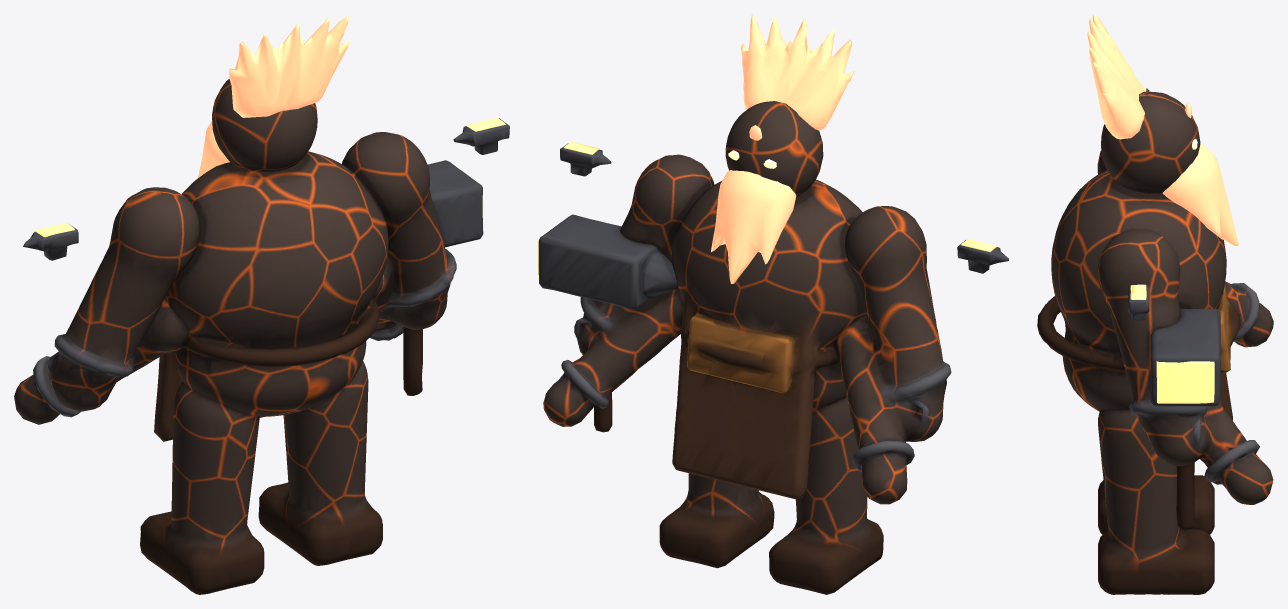
The model's file is Vulkhar.glb.
The picture shows the model from 3 angles, left to right: view 1: azimuth 30°, elevation 25°; view 2: azimuth 150°, elevation 25°; view 3: azimuth 270°, elevation 25°; orthographic projection. The views are drawn at different scales.
Visible parts, largest first — view 1: Body, ArmL, LegL, LegR, ArmR, Head_Glow3, Head, WeaponR, Orbit; view 2: Body, ArmL, ArmR, Head_Glow3, LegL, WeaponR, LegR, Head, Orbit; view 3: Body, ArmR, LegR, Head_Glow3, Head, WeaponR, WeaponR_Glow, ArmL, LegL, Orbit.
Part boxes in pixels (x1,y1,x2,y2): Body: (154,151,388,441); ArmL: (14,187,200,424); LegL: (140,382,264,594); LegR: (258,361,382,565); ArmR: (342,132,456,340); Head_Glow3: (198,14,350,177); Head: (212,79,317,171); WeaponR: (403,160,483,395); Orbit: (23,118,509,260); Body: (672,179,866,498); ArmL: (833,206,951,504); ArmR: (543,154,714,426); Head_Glow3: (711,14,854,283); LegL: (769,397,883,594); WeaponR: (538,214,677,432); LegR: (659,473,774,568); Head: (725,101,823,197); Orbit: (560,143,1008,273); Body: (1037,170,1240,484); ArmR: (1097,228,1273,504); LegR: (1098,409,1214,594); Head_Glow3: (1087,14,1238,246); Head: (1101,91,1200,193); WeaponR: (1150,309,1220,531); WeaponR_Glow: (1156,361,1214,403); ArmL: (1097,150,1273,347); LegL: (1098,475,1214,534); Orbit: (1128,88,1149,320).
Bounding box in the file's own units: 3.48 × 3.86 × 1.57.
8 materials, 1 textured.
